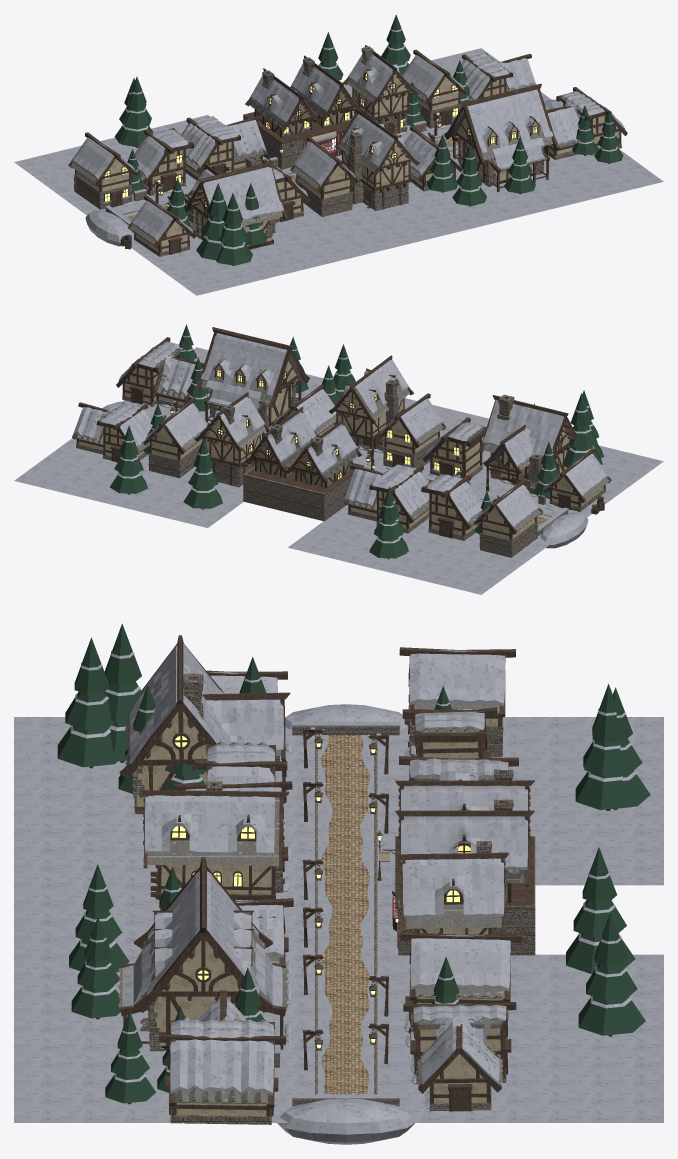
File: hm_street_01_webp.glb
3 views of the same model, one above another, from view 1: azimuth 30°, elevation 25°; view 2: azimuth 150°, elevation 25°; view 3: azimuth 270°, elevation 25° (orthographic). The views are drawn at different scales.
Parts seen in each view (by area): view 1: Hm_Street, Hm_Honeydukes_Body; view 2: Hm_Street, Hm_Honeydukes_Body; view 3: Hm_Street, Hm_Honeydukes_Body.
Part boxes in pixels (left/top/right/bottom): Hm_Street: left=14, top=14, right=663, bottom=295; Hm_Honeydukes_Body: left=243, top=55, right=361, bottom=169; Hm_Street: left=14, top=324, right=663, bottom=594; Hm_Honeydukes_Body: left=243, top=406, right=363, bottom=521; Hm_Street: left=14, top=623, right=663, bottom=1144; Hm_Honeydukes_Body: left=378, top=769, right=535, bottom=955.
Size of the model in its own units: 70.4 by 12.71 by 46.
13 materials, 8 textured.
